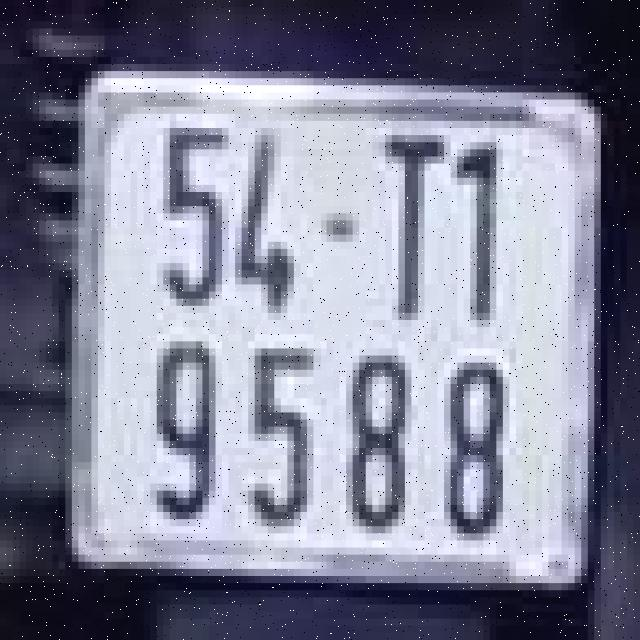1: (444, 132, 529, 338)
4: (229, 110, 307, 324)
5: (228, 334, 326, 534), (150, 114, 229, 313)
8: (333, 345, 431, 537), (434, 348, 519, 554)
9: (134, 330, 225, 522)
T: (359, 110, 451, 331)
